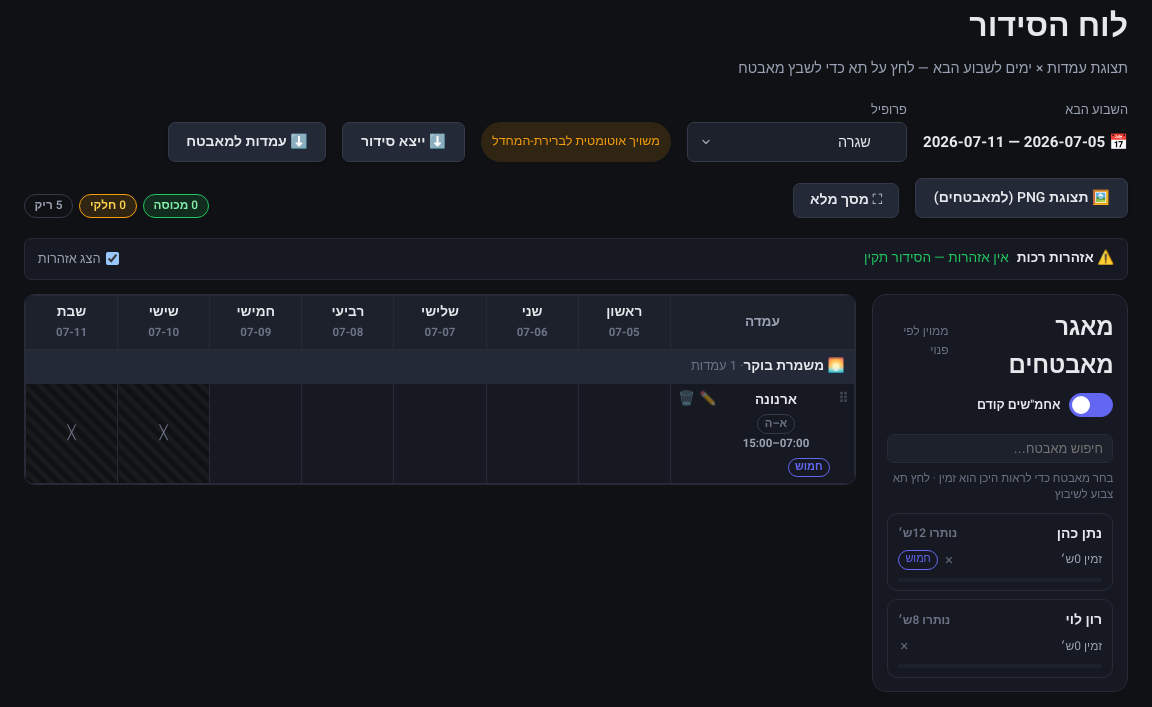
BoardPage › does not delete the position when the warning is cancelled
expect the text "ארנונה" is shown: met, box [755,390,797,410]
Click the button named "מחק עמדה" at [686, 399], box [676,390,697,407]
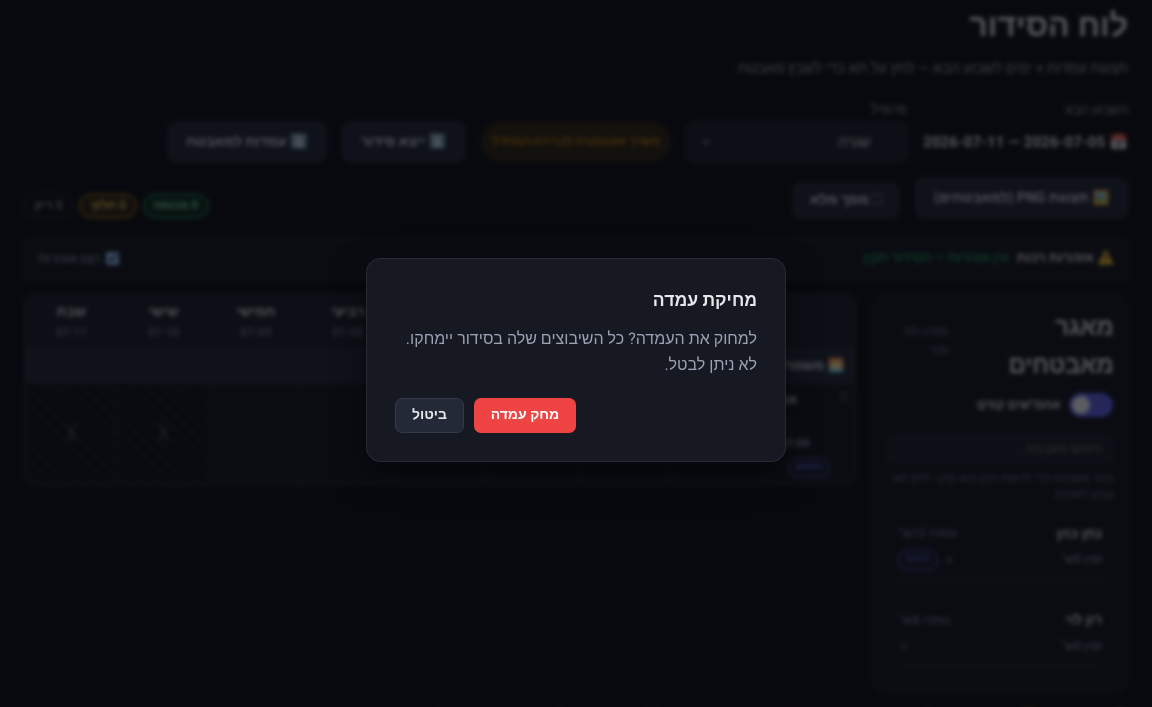
Click the button "ביטול" at [430, 416], box [395,398,464,433]
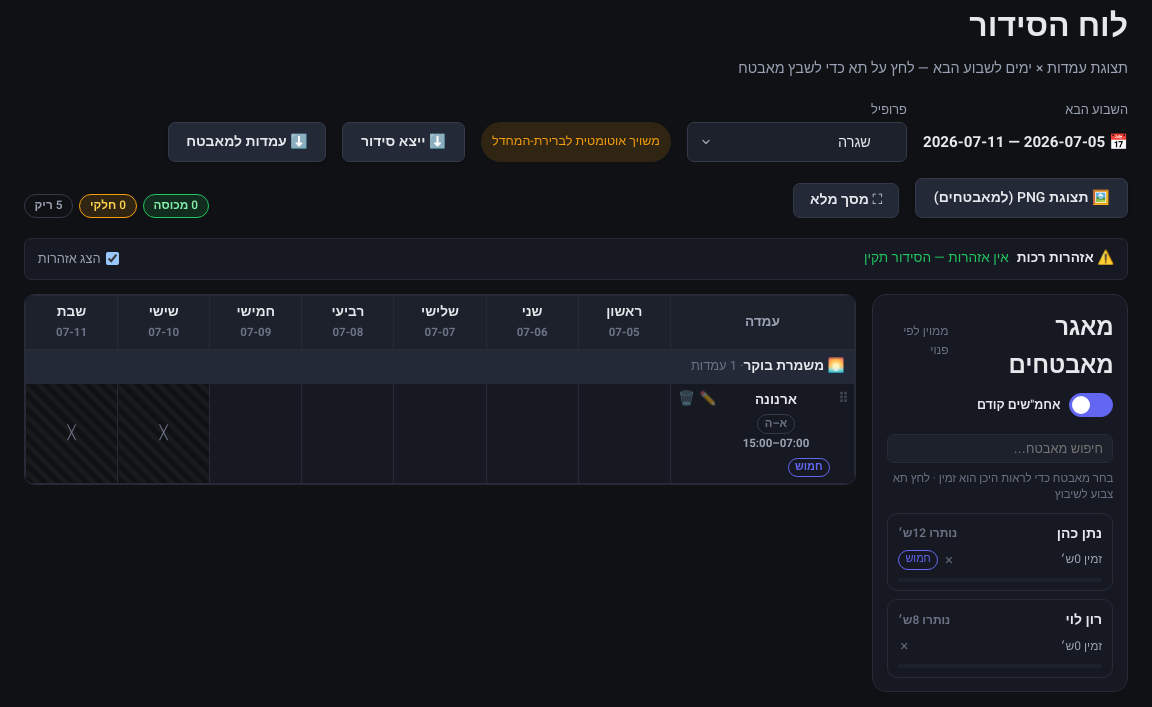
expect the heading "מחיקת עמדה" is gone: met
